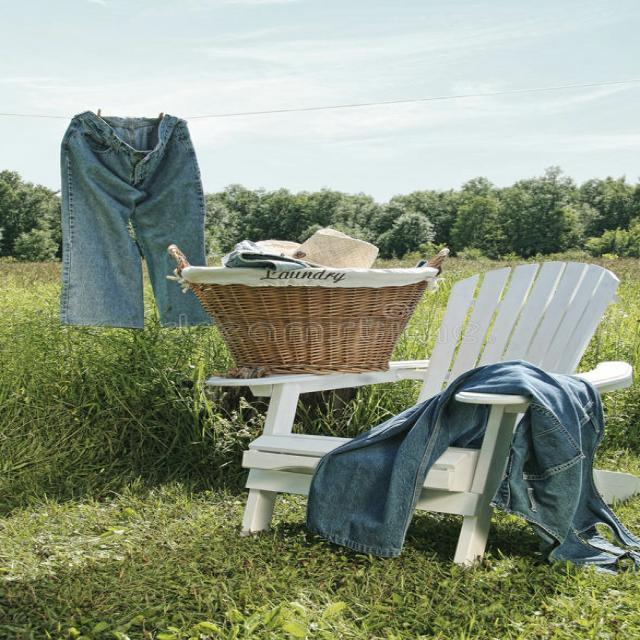clothes: (54, 138, 206, 336)
